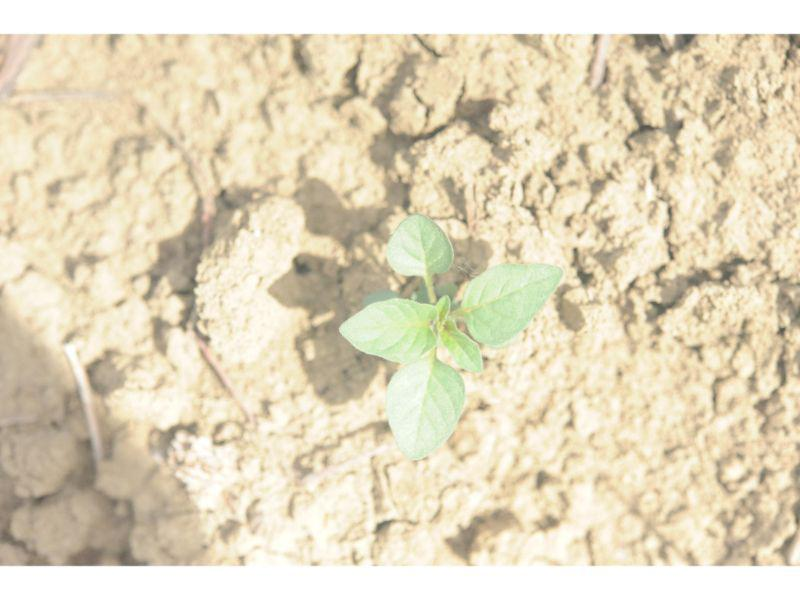nightshade: (339, 212, 563, 463)
